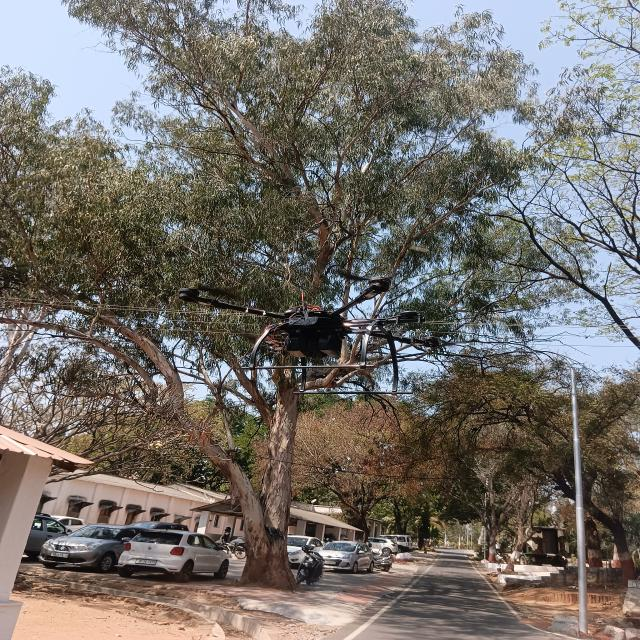drone: (136, 259, 458, 393)
